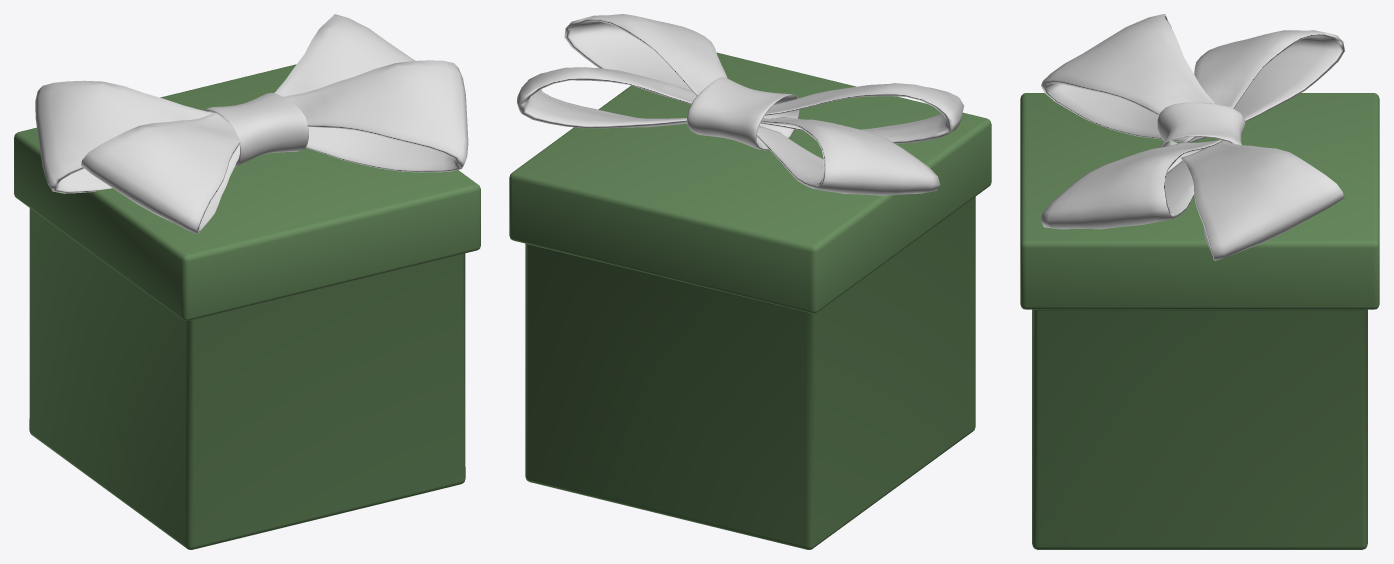
The model's file is GasparRegalo.fbx.
3 renders of one model, left to right at view 1: azimuth 30°, elevation 25°; view 2: azimuth 150°, elevation 25°; view 3: azimuth 270°, elevation 25°, orthographic. The views are drawn at different scales.
Visible parts, largest first — view 1: Cube.039; view 2: Cube.039; view 3: Cube.039.
Boxes of the visible parts, bbox=[...] form: Cube.039: bbox=[14, 14, 480, 549]; Cube.039: bbox=[509, 14, 991, 549]; Cube.039: bbox=[1020, 14, 1379, 549].
Size of the model in its own units: 51.57 by 46.64 by 38.9.
